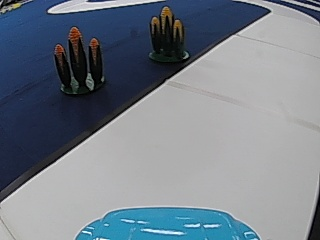corn: (52, 26, 107, 94), (145, 3, 190, 61)
